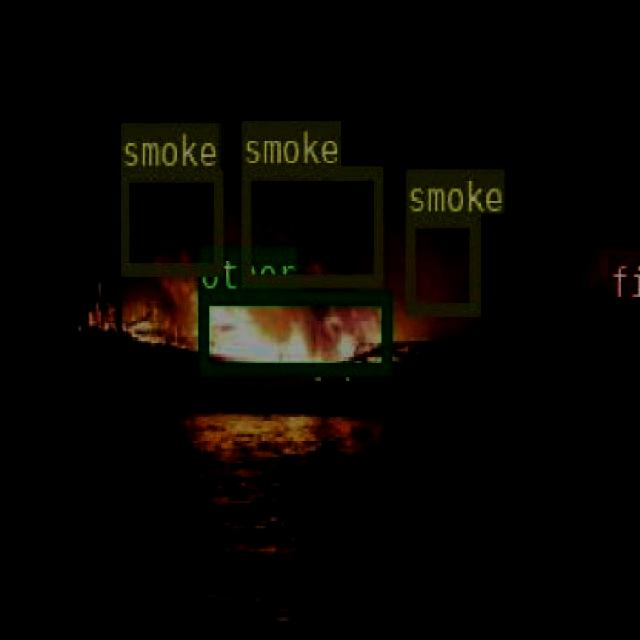fire: (606, 252, 636, 280)
smoke: (239, 164, 381, 284), (118, 166, 222, 274), (404, 212, 478, 314)
